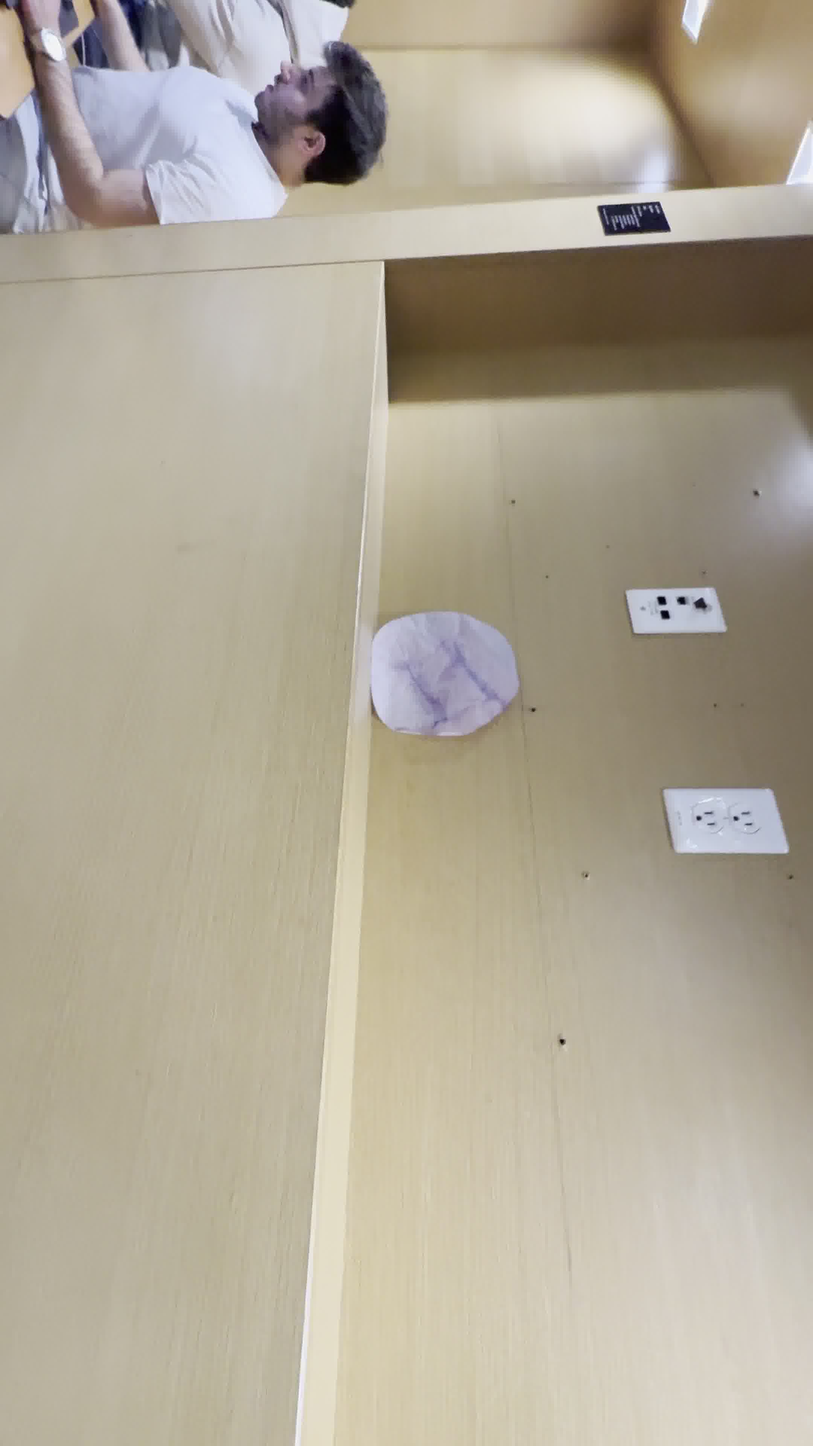Target: (371, 607, 521, 742)
